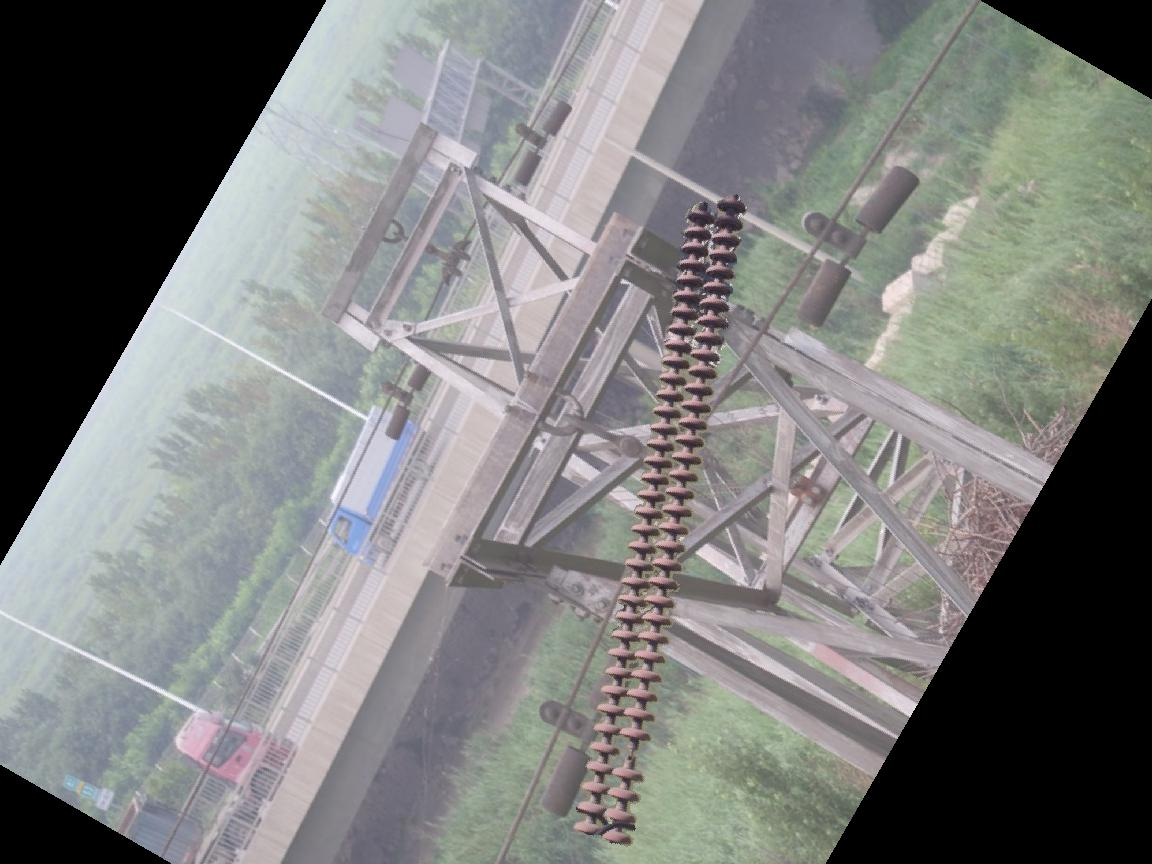insulator: (566, 191, 747, 850)
insulator_stringdrop: (608, 724, 655, 786)
